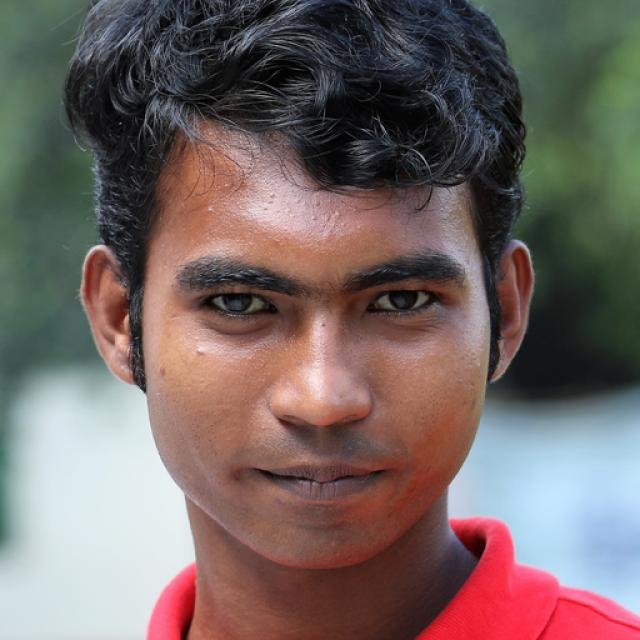Acne: (309, 194, 348, 228), (261, 177, 282, 221), (187, 337, 217, 367), (200, 197, 222, 225)
